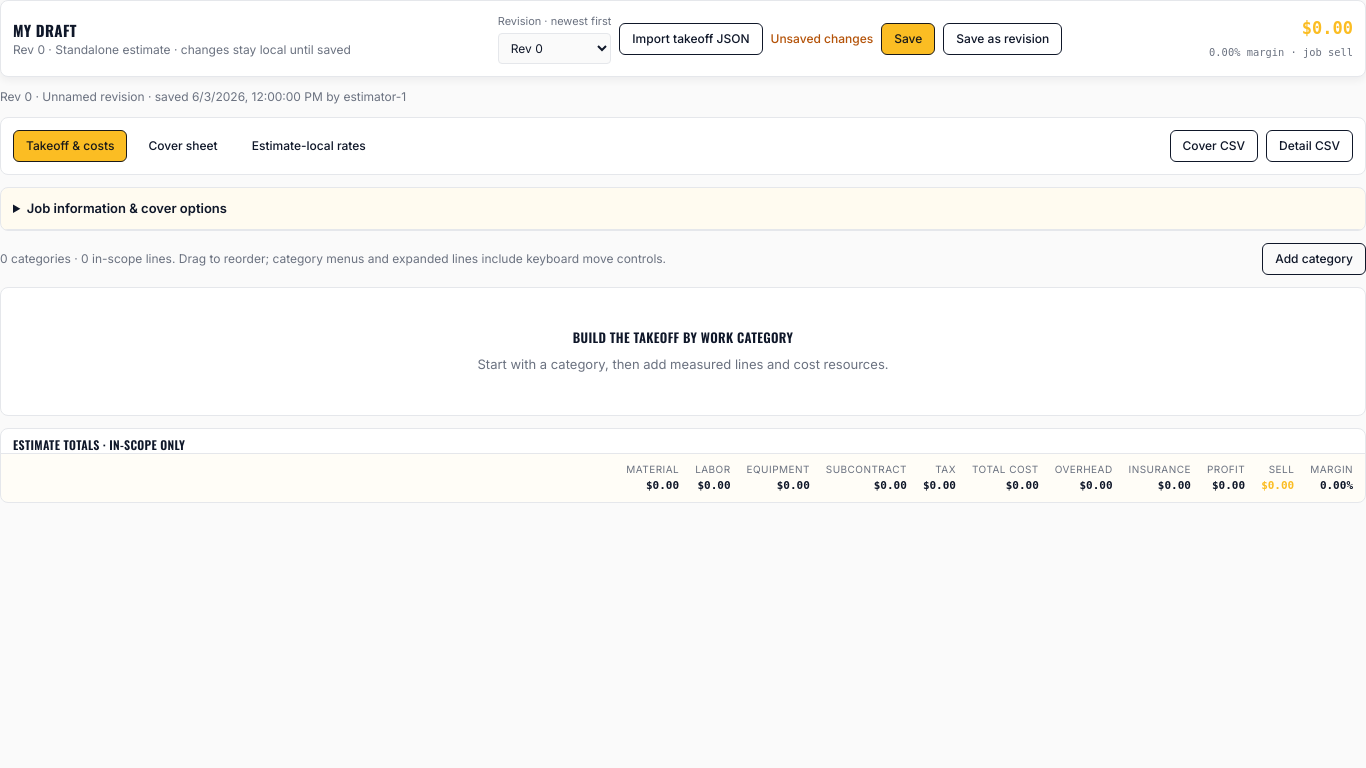
Estimate revision workflow › keeps a conflicting draft and offers current or a new revision
Earlier steps of the test are not shown.
Later steps or results of the test are not shown.
Click the button "Save".
click(908, 39)  # box [881,23,935,55]
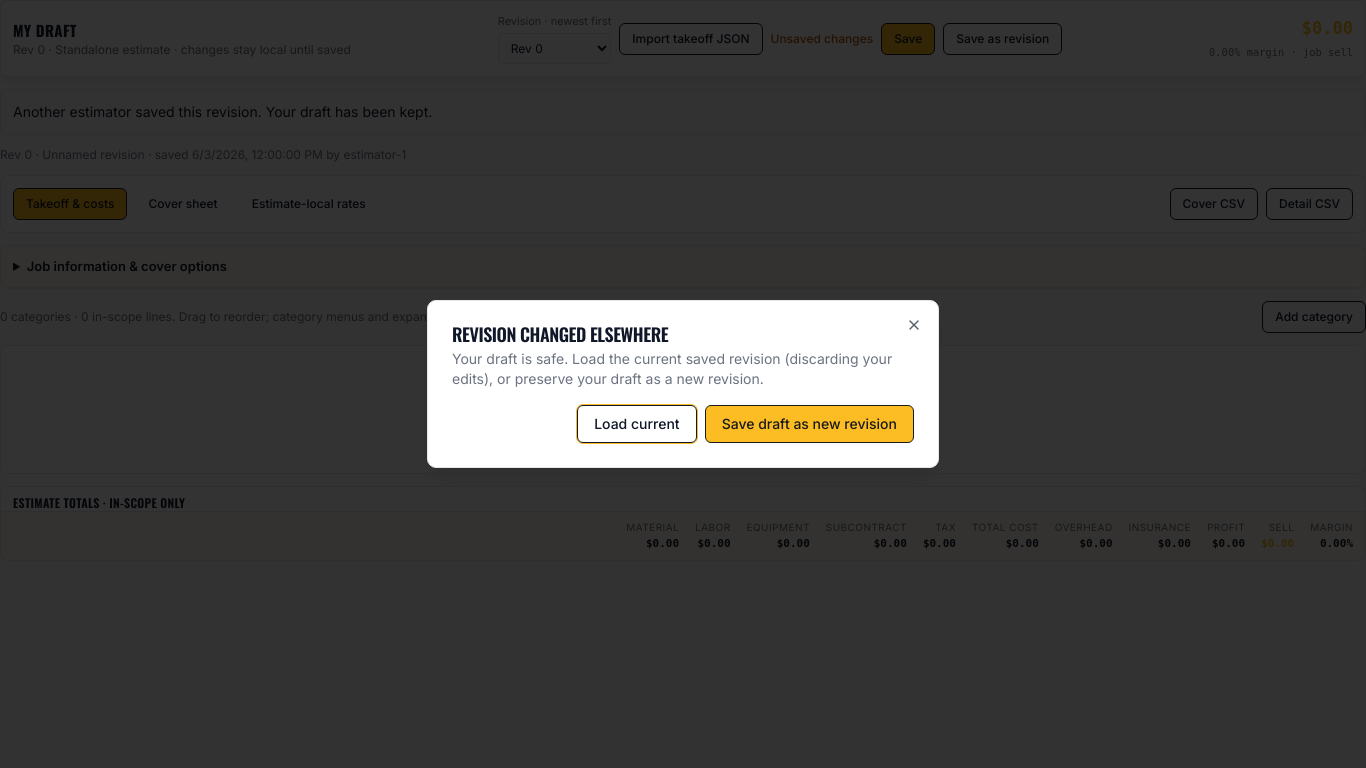
Expected: the button "Load current" is shown, [577,405,697,443]
